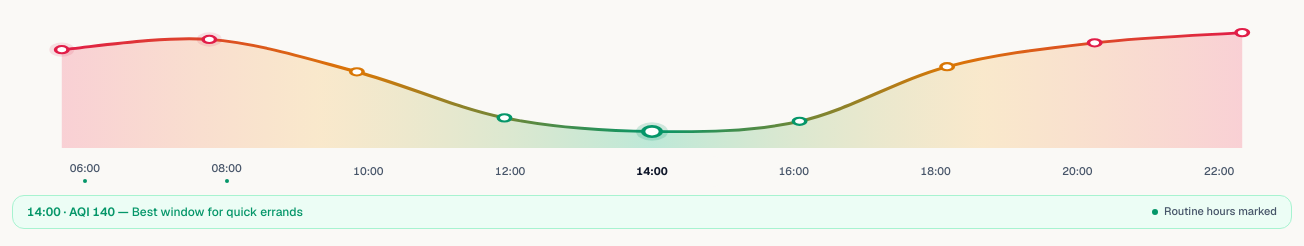
Test: UI Components › HourlyAirWave › renders accessible SVG wave chart and updates inspector bar on hour selection
Expected: the picture named "hourly air quality wave from 06:00 to 22:00" is shown, [12, 12, 1292, 148]
Expected: the text "14:00 · AQI 140 — Best window for quick errands" is shown, [27, 204, 303, 220]
Click the button "08:00" at [227, 171], box [158, 156, 296, 186]
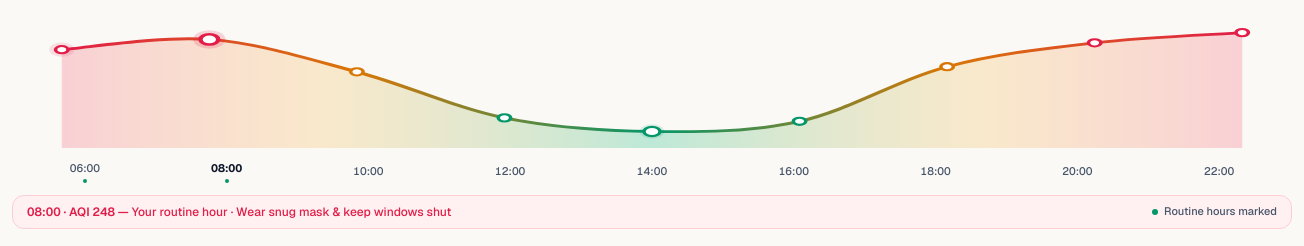
Result: the text "08:00 · AQI 248" is shown at [27, 204, 452, 220]
Result: the text "Your routine hour · Wear snug mask & keep windows shut" is shown at [132, 204, 451, 220]
